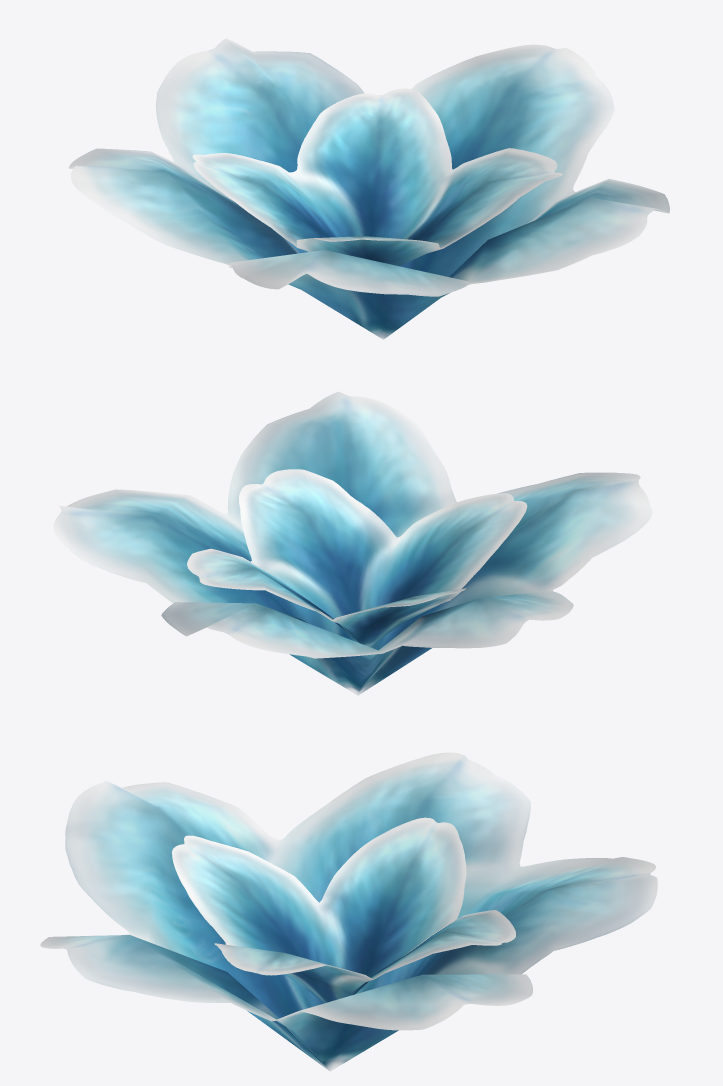
File: Flower.fbx
3 renders of one model, top to bottom at view 1: azimuth 30°, elevation 25°; view 2: azimuth 150°, elevation 25°; view 3: azimuth 270°, elevation 25°, orthographic. The views are drawn at different scales.
Visible parts, largest first — view 1: flower:flower3; view 2: flower:flower3; view 3: flower:flower3.
Part boxes in pixels (box(x1,y1,x2,y2)): flower:flower3: box(69, 38, 669, 339); flower:flower3: box(53, 391, 652, 695); flower:flower3: box(40, 752, 657, 1071).
Bounding box in the file's own units: 7.91 × 2.55 × 7.9.
